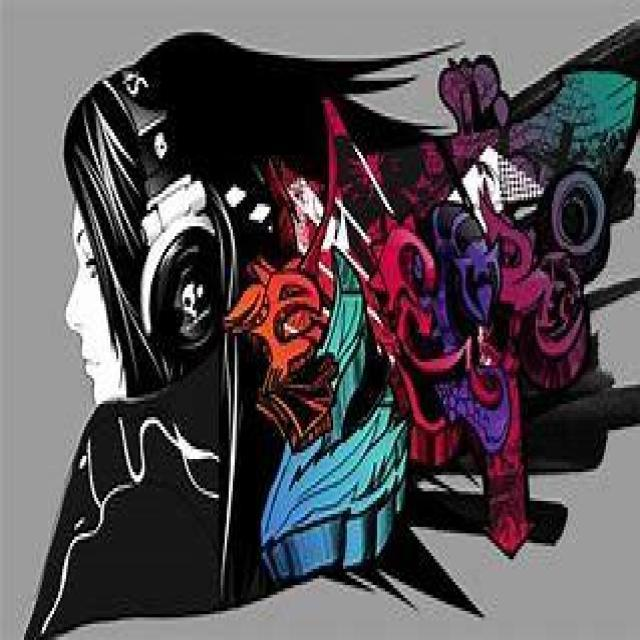nonspitting: (220, 51, 640, 578)
spitting: (16, 22, 485, 640)
